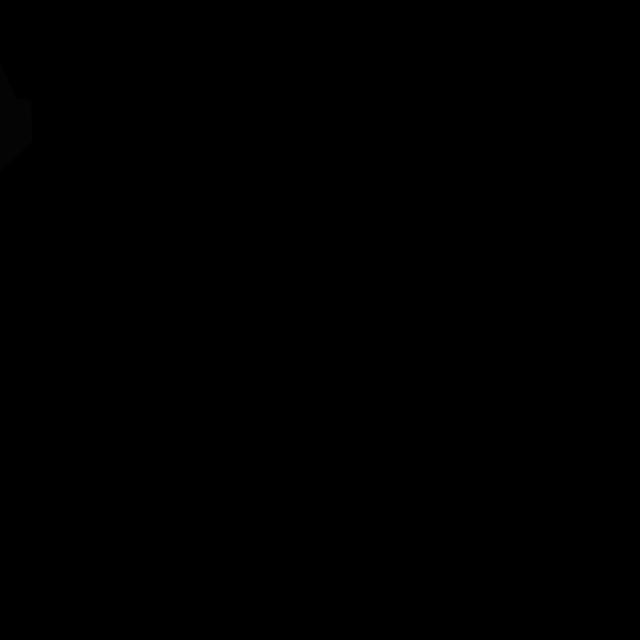soft_plastic: (0, 61, 32, 172)
